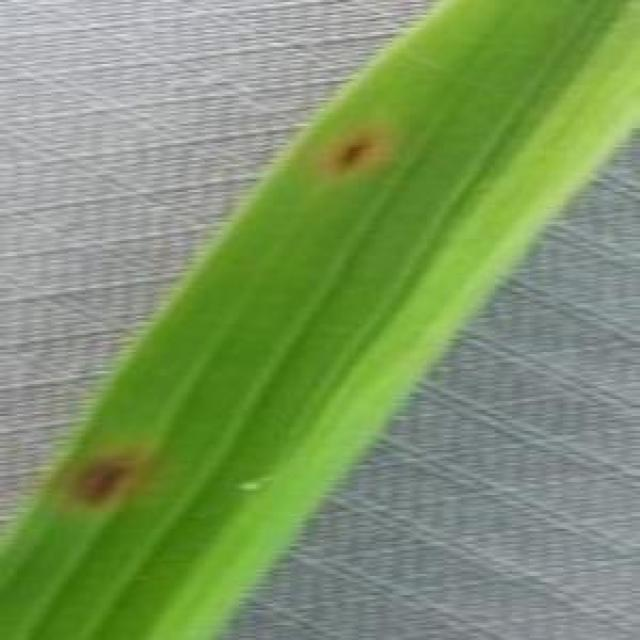Brown_Spot: (47, 439, 148, 525), (312, 130, 398, 186)
